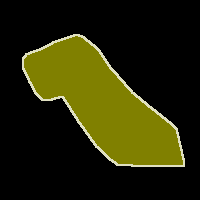tie: (23, 34, 184, 166)
